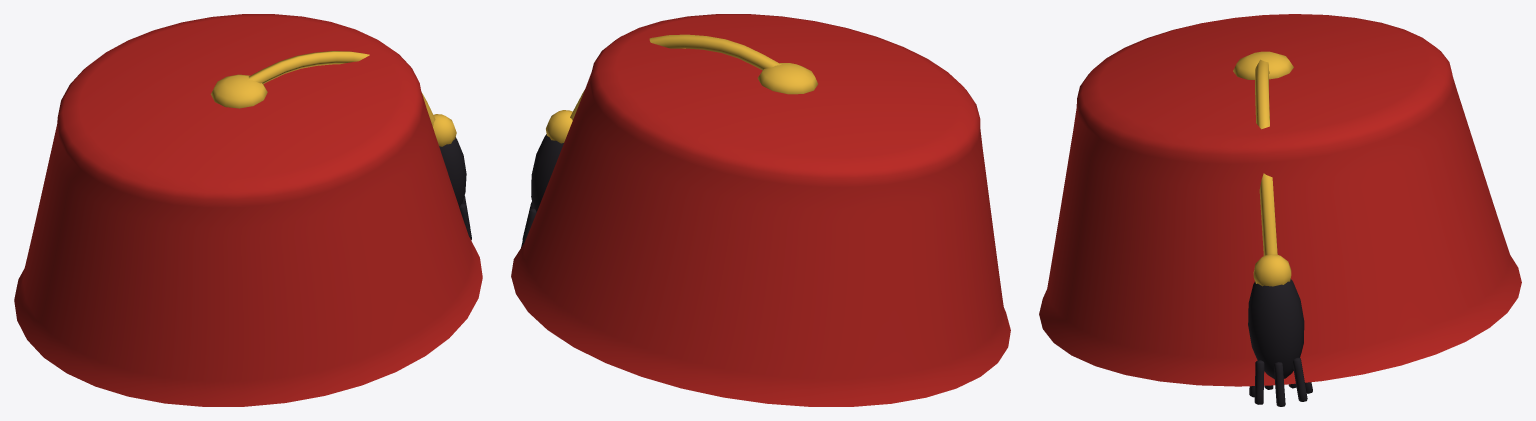
Rendered from hat_fez.glb.
3 views of the same model, side by side, from view 1: azimuth 30°, elevation 25°; view 2: azimuth 150°, elevation 25°; view 3: azimuth 270°, elevation 25° (orthographic). The views are drawn at different scales.
Parts seen in each view (by area): view 1: HatFez; view 2: HatFez; view 3: HatFez.
Boxes of the visible parts, x1,y1,x2,y2 form: HatFez: (14,14,482,406); HatFez: (511,14,1010,406); HatFez: (1039,14,1521,406).
Bounding box in the file's own units: 0.4487 × 0.2535 × 0.411.
